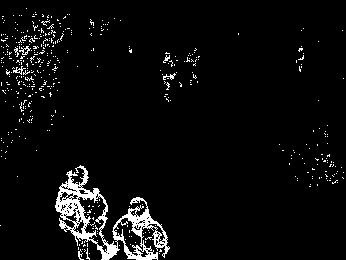person: (55, 165, 114, 260), (114, 196, 169, 260)
